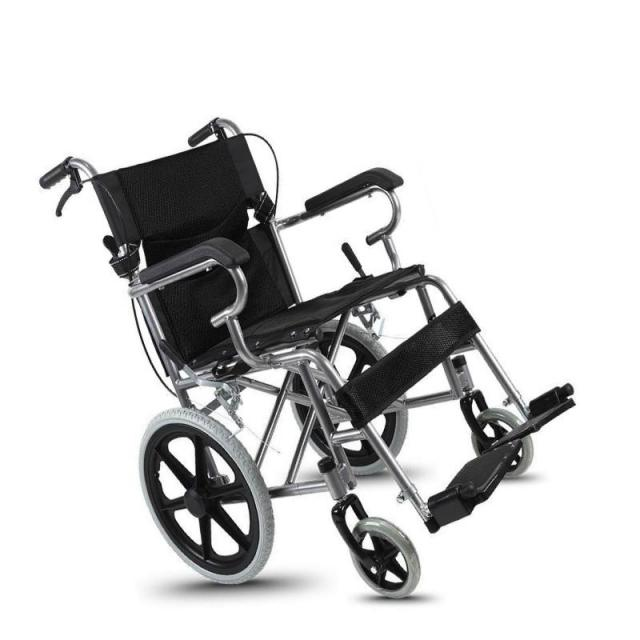wheelchair: (23, 112, 589, 611)
